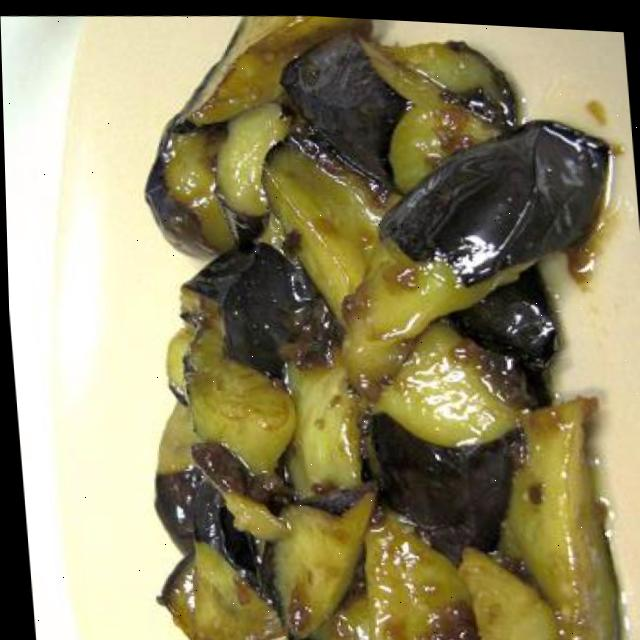鸡蛋料理: (73, 3, 640, 640)
